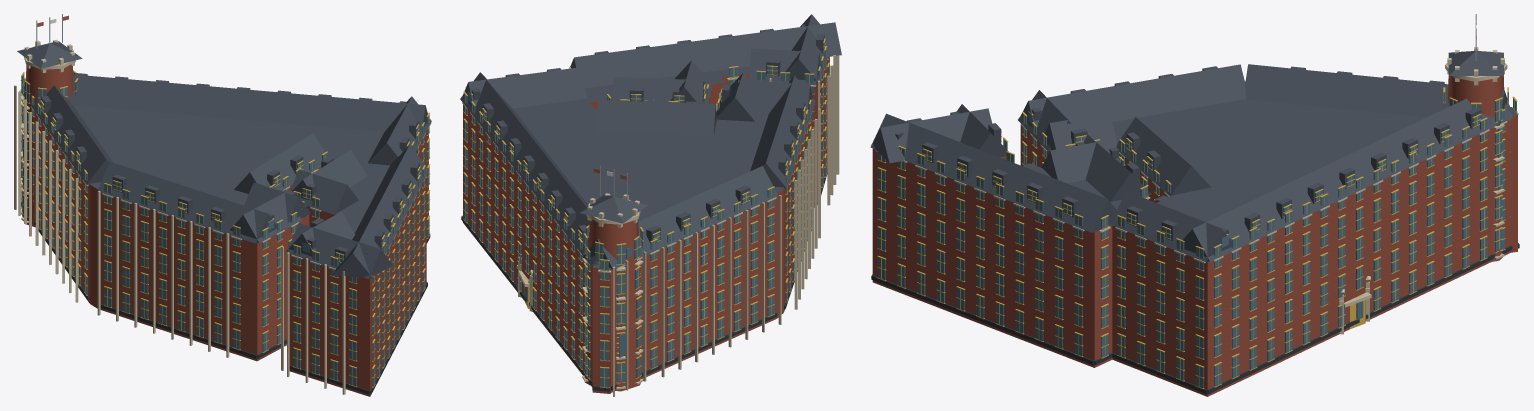
File: scheepvaarthuis.glb
3 views of the same model, side by side, from view 1: azimuth 30°, elevation 25°; view 2: azimuth 150°, elevation 25°; view 3: azimuth 270°, elevation 25° (orthographic). The views are drawn at different scales.
Parts seen in each view (by area): view 1: scheepvaarthuis; view 2: scheepvaarthuis; view 3: scheepvaarthuis.
Part boxes in pixels (x1,y1,x2,y2): scheepvaarthuis: (14,14,431,396); scheepvaarthuis: (460,14,841,396); scheepvaarthuis: (870,14,1519,396).
Bounding box in the file's own units: 67.26 × 38.9 × 99.79.
